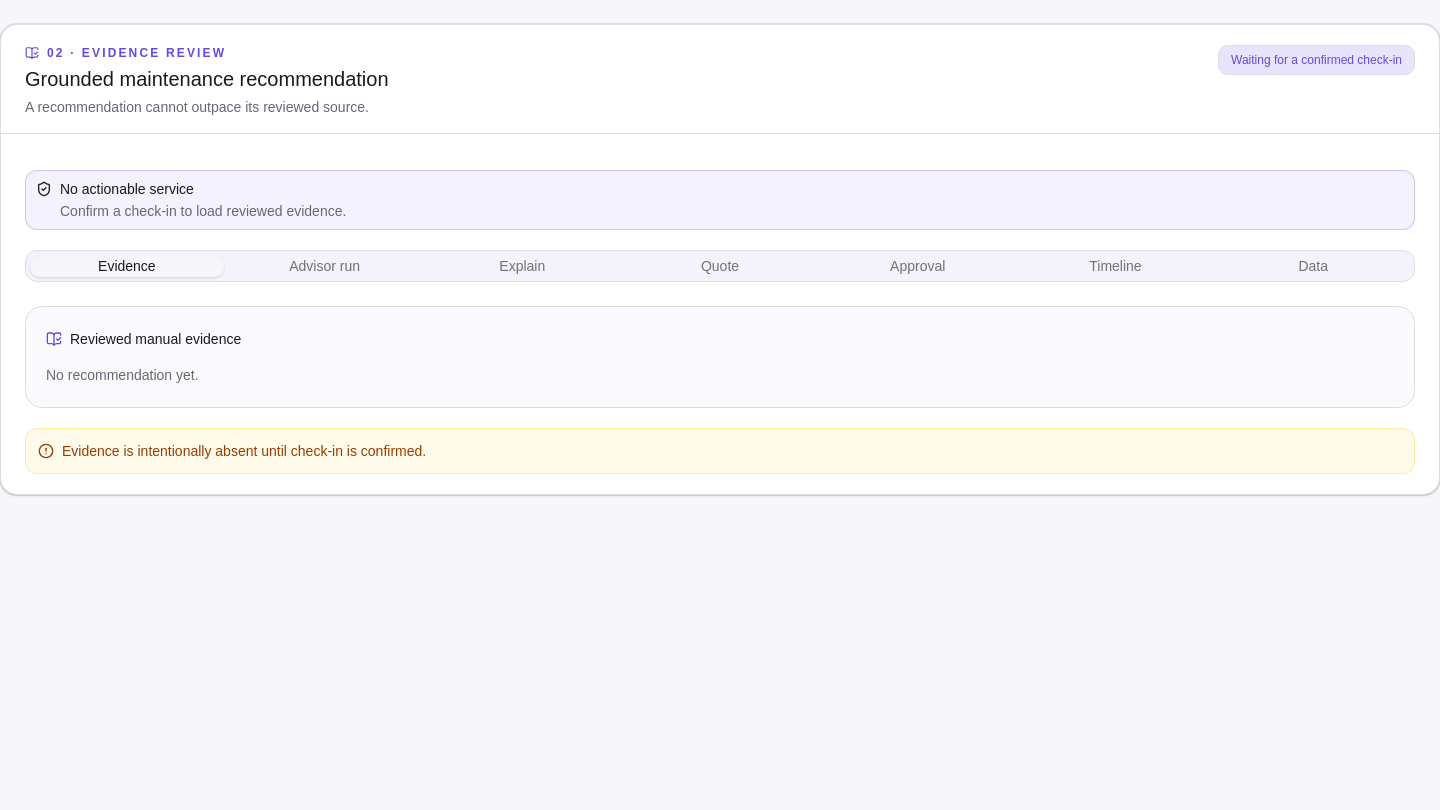
Test case: replays persisted advisor run events after starting a run
Click the tab "Advisor run" at (325,266), box [228, 256, 421, 276]
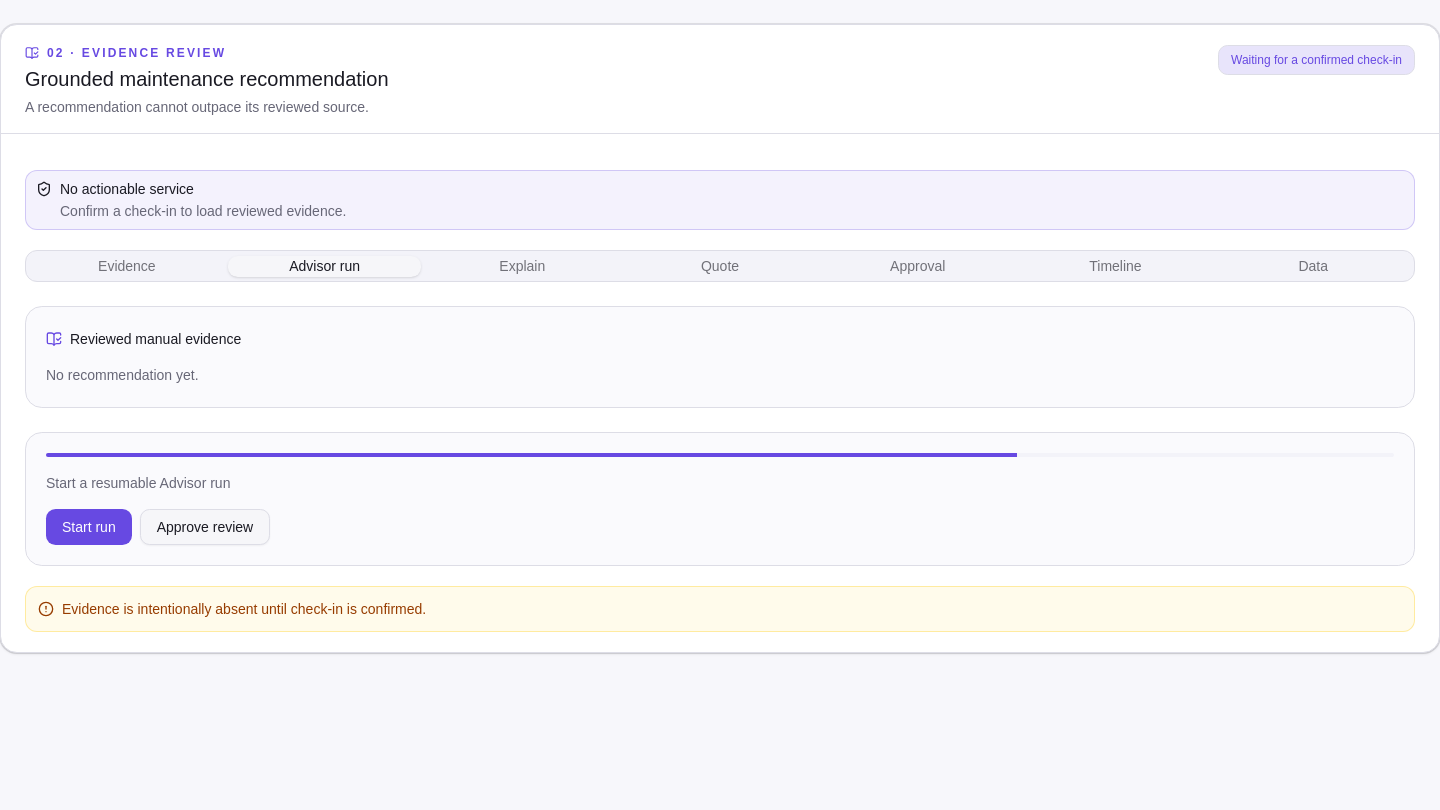
Click the button "Start run" at (89,527), box [46, 509, 132, 545]
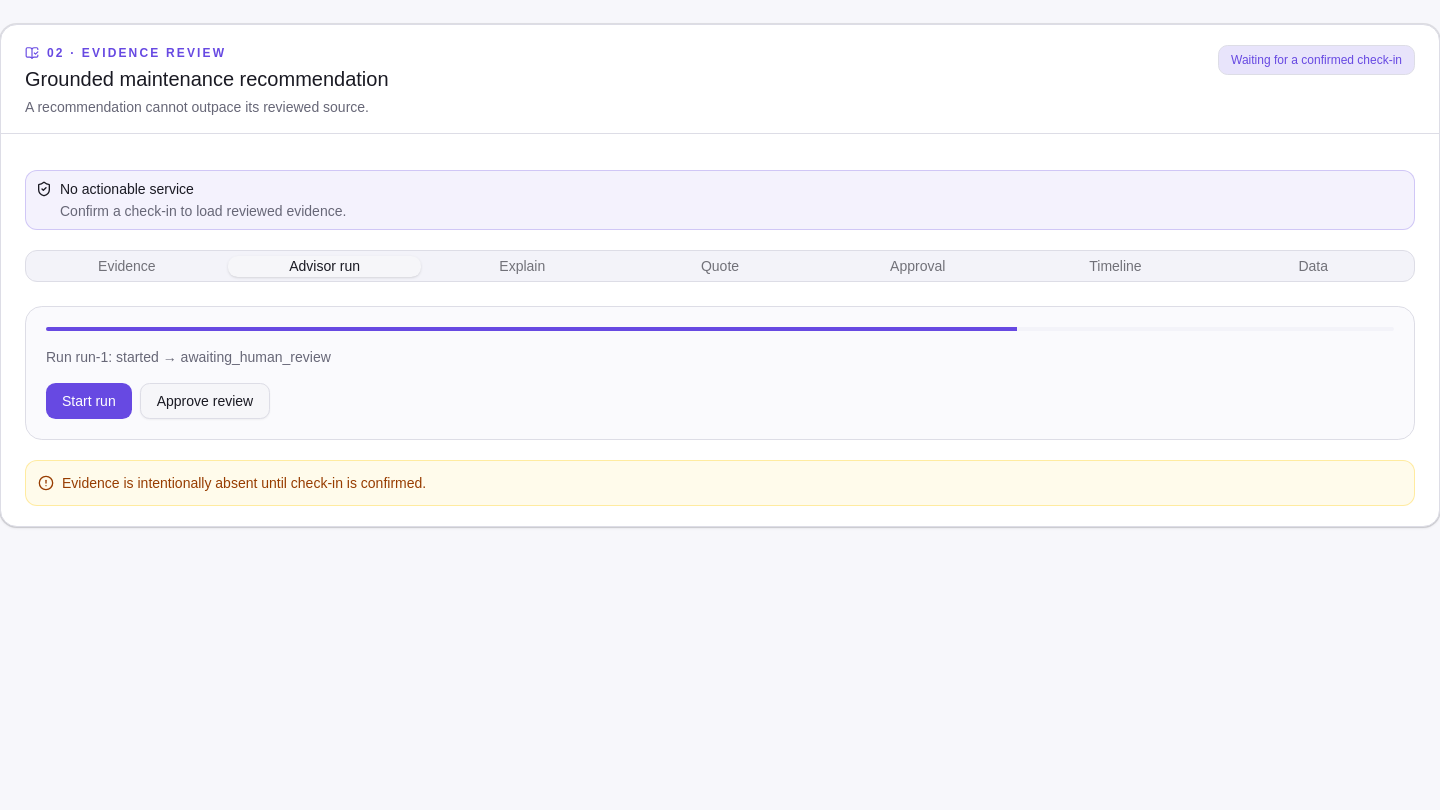
expect the text "Run run-1: started → awaiting_human_review" is shown: met, box [46, 349, 331, 365]
